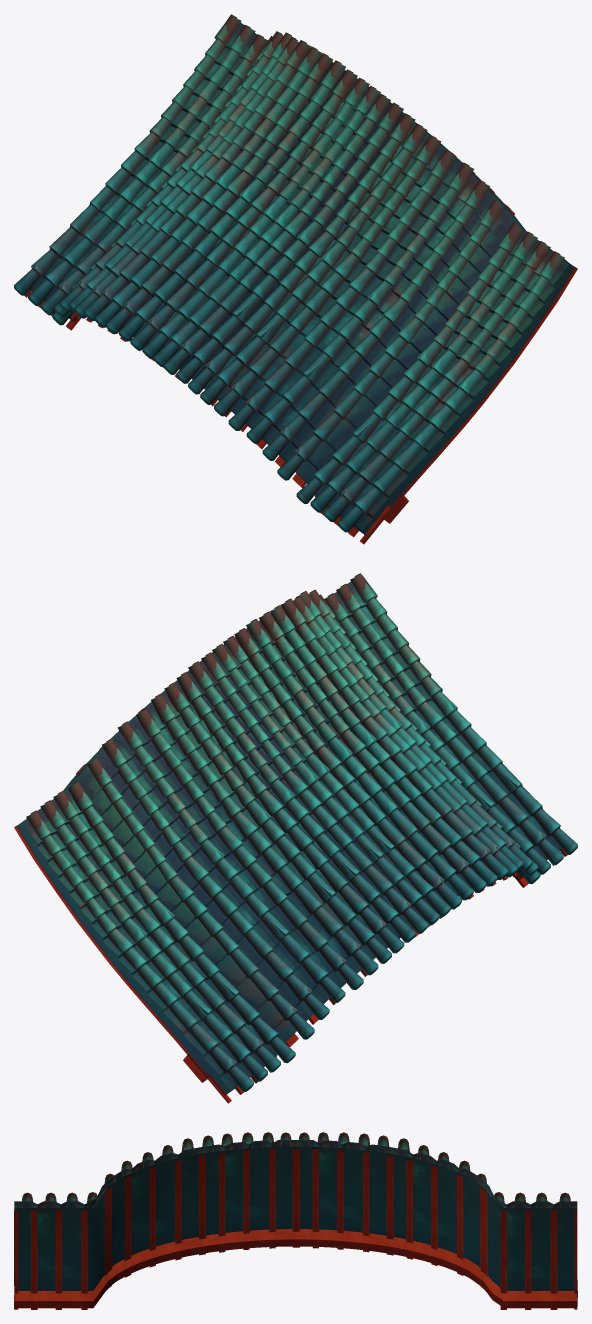
The model's file is SM_Wave_Roof.glb.
3 views of the same model, one above another, from view 1: azimuth 30°, elevation 25°; view 2: azimuth 150°, elevation 25°; view 3: azimuth 270°, elevation 25° (orthographic). The views are drawn at different scales.
Visible parts, largest first — view 1: SM_Wave_Roof_LOD0; view 2: SM_Wave_Roof_LOD0; view 3: SM_Wave_Roof_LOD0.
Part boxes in pixels (bbox=[...]): SM_Wave_Roof_LOD0: bbox=[14, 14, 577, 544]; SM_Wave_Roof_LOD0: bbox=[14, 573, 577, 1103]; SM_Wave_Roof_LOD0: bbox=[14, 1132, 577, 1309].
Bounding box in the file's own units: 2.66 × 2.9 × 6.01.
1 material, 1 textured.
